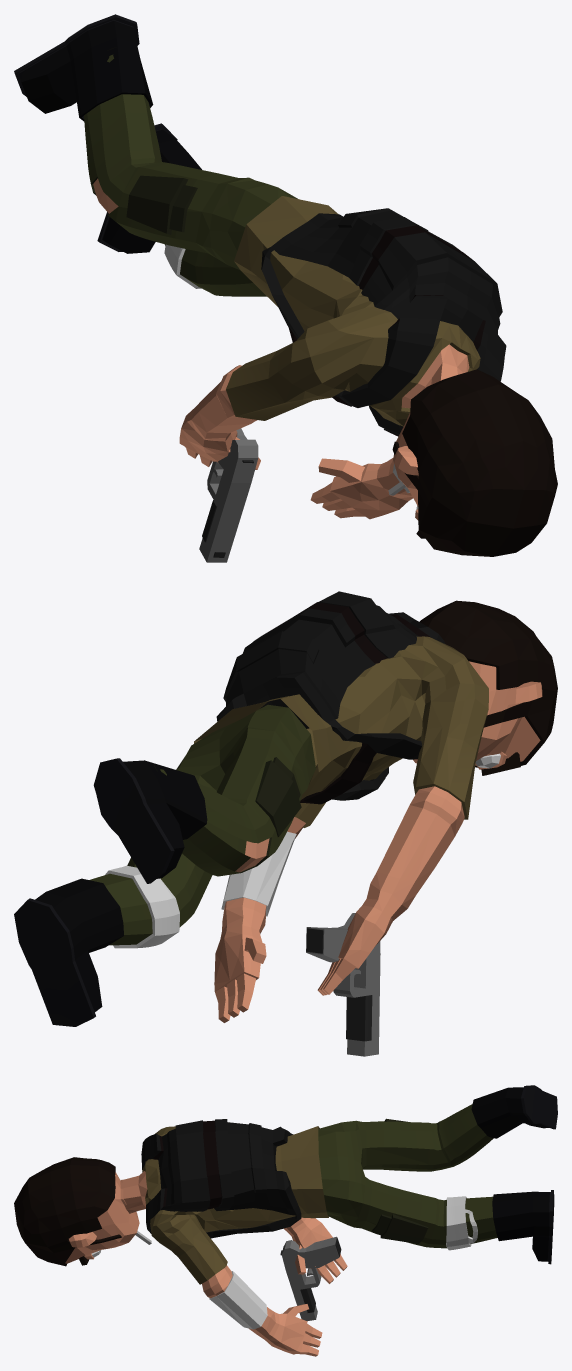
The model's file is frame_0072.obj.
3 renders of one model, top to bottom at view 1: azimuth 30°, elevation 25°; view 2: azimuth 150°, elevation 25°; view 3: azimuth 270°, elevation 25°, orthographic. The views are drawn at different scales.
Visible parts, largest first — view 1: Body, Gun; view 2: Body, Gun; view 3: Body, Gun.
Boxes of the visible parts, <box> form: Body: <box>14,14,557,556</box>; Gun: <box>199,428,258,562</box>; Body: <box>14,591,557,1026</box>; Gun: <box>306,913,380,1056</box>; Body: <box>14,1085,557,1356</box>; Gun: <box>280,1236,341,1321</box>.
Size of the model in its own units: 1.32 by 2.16 by 4.15.
